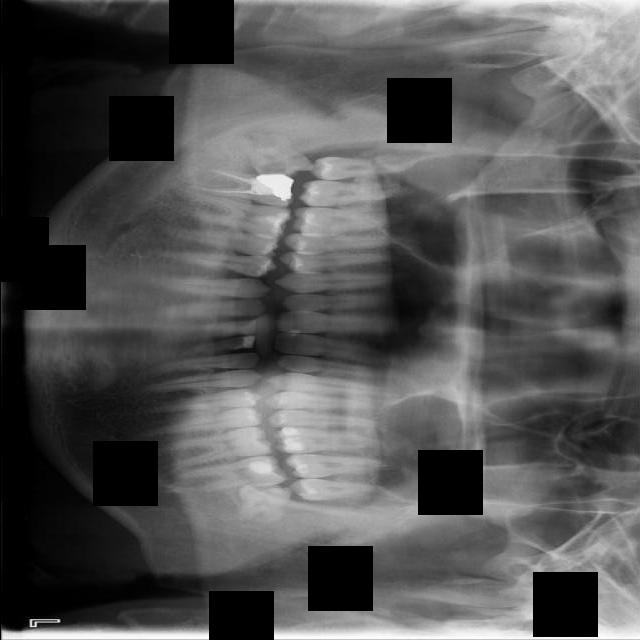3M ESPE Implant: (305, 153, 418, 182)
52: (240, 193, 296, 250), (236, 449, 288, 492), (248, 170, 297, 210), (283, 451, 335, 481), (273, 330, 328, 358), (237, 228, 280, 262), (292, 207, 337, 239), (274, 425, 321, 455), (278, 249, 331, 275), (281, 232, 336, 256), (275, 311, 327, 333), (297, 180, 340, 206), (231, 255, 276, 277), (217, 387, 261, 408), (224, 334, 256, 352), (261, 160, 285, 175)
73: (187, 163, 257, 200), (41, 602, 50, 608)
BioHorizons Implant: (285, 452, 395, 484)
BioLife Implant: (289, 478, 387, 501)
Biomet 3i Implant: (238, 481, 291, 524)
Blue Sky Bio Implant: (175, 453, 289, 495)
Caries: (296, 173, 415, 209)
Implant: (186, 156, 297, 210)
Keystone Dental Implant: (228, 113, 316, 198)
